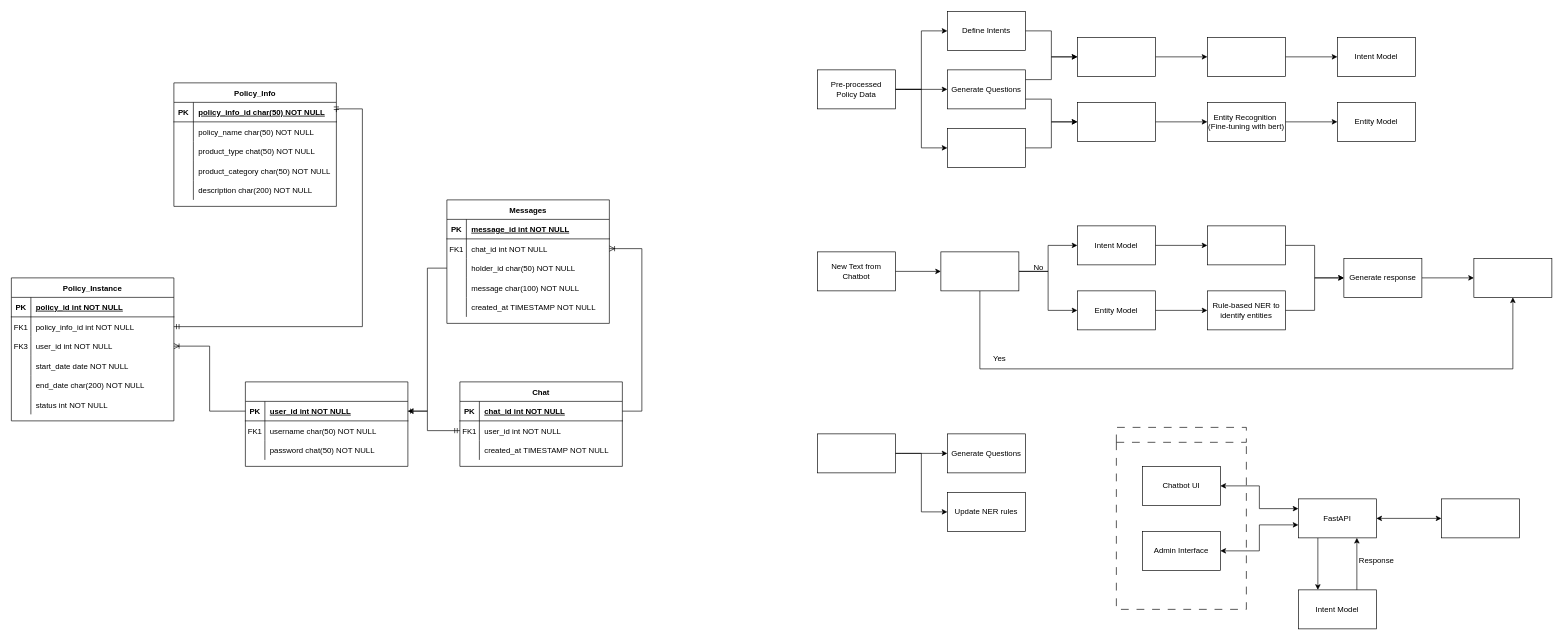
Image size: 1563x640. Some labels were removed from this diagram. Each missing label, with the box of its shape:
Adding new policies: (817, 433, 895, 473)
Check if it's a pre-defined questions: (940, 251, 1019, 291)
Database (mySQL): (1441, 498, 1519, 538)
Define Entities: (947, 128, 1025, 167)
Entity Recognition Entity train/test dataset: (1077, 102, 1155, 141)
Frontend (Nextjs): (1116, 427, 1246, 609)
Intent Identification (Fine-tuning with bert): (1207, 37, 1285, 76)
Intent prediction: (1207, 225, 1285, 265)
Intent train/test dataset: (1077, 37, 1155, 76)
Policy_Holder: (245, 381, 408, 466)
Return answer: (1473, 258, 1552, 297)
